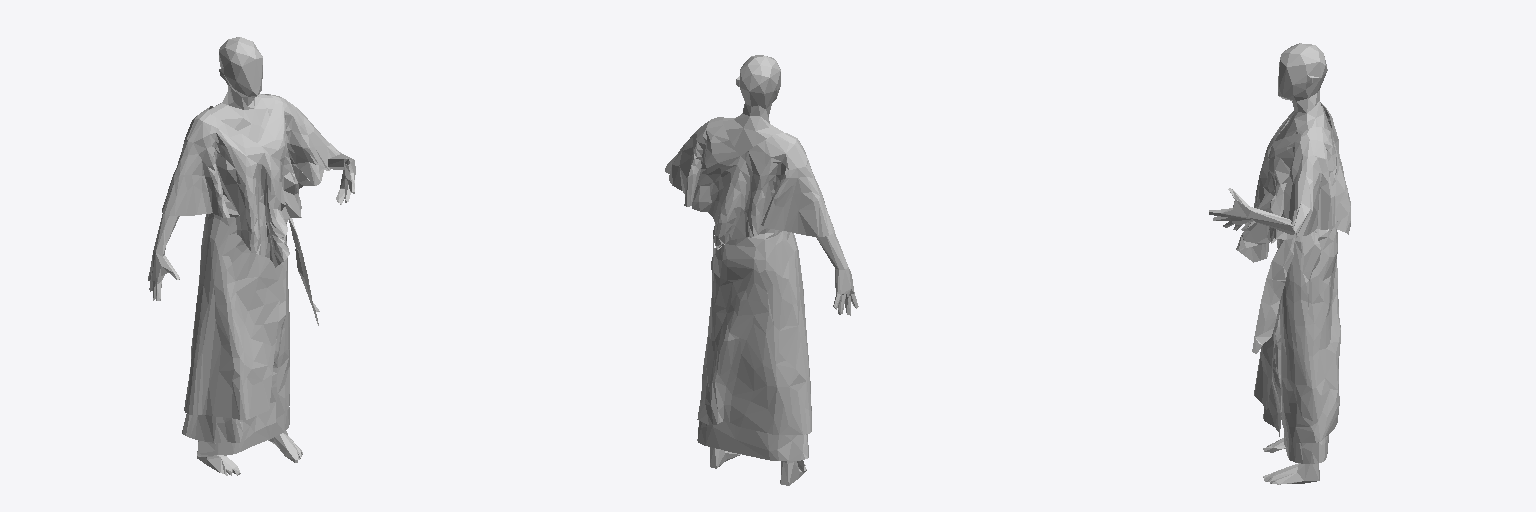
Rendered from personaB1.obj.
The picture shows the model from 3 angles: view 1: azimuth 30°, elevation 25°; view 2: azimuth 150°, elevation 25°; view 3: azimuth 270°, elevation 25°; orthographic projection.
Parts seen in each view (by area): view 1: TrajeTipico, Maniqui; view 2: TrajeTipico, Maniqui; view 3: TrajeTipico, Maniqui.
Part boxes in pixels (bbox=[...]): TrajeTipico: bbox=[162, 94, 339, 456]; Maniqui: bbox=[148, 37, 355, 475]; TrajeTipico: bbox=[665, 117, 834, 472]; Maniqui: bbox=[710, 55, 858, 485]; TrajeTipico: bbox=[1236, 102, 1350, 463]; Maniqui: bbox=[1209, 43, 1330, 484].
Size of the model in its own units: 86.89 by 183 by 56.59.